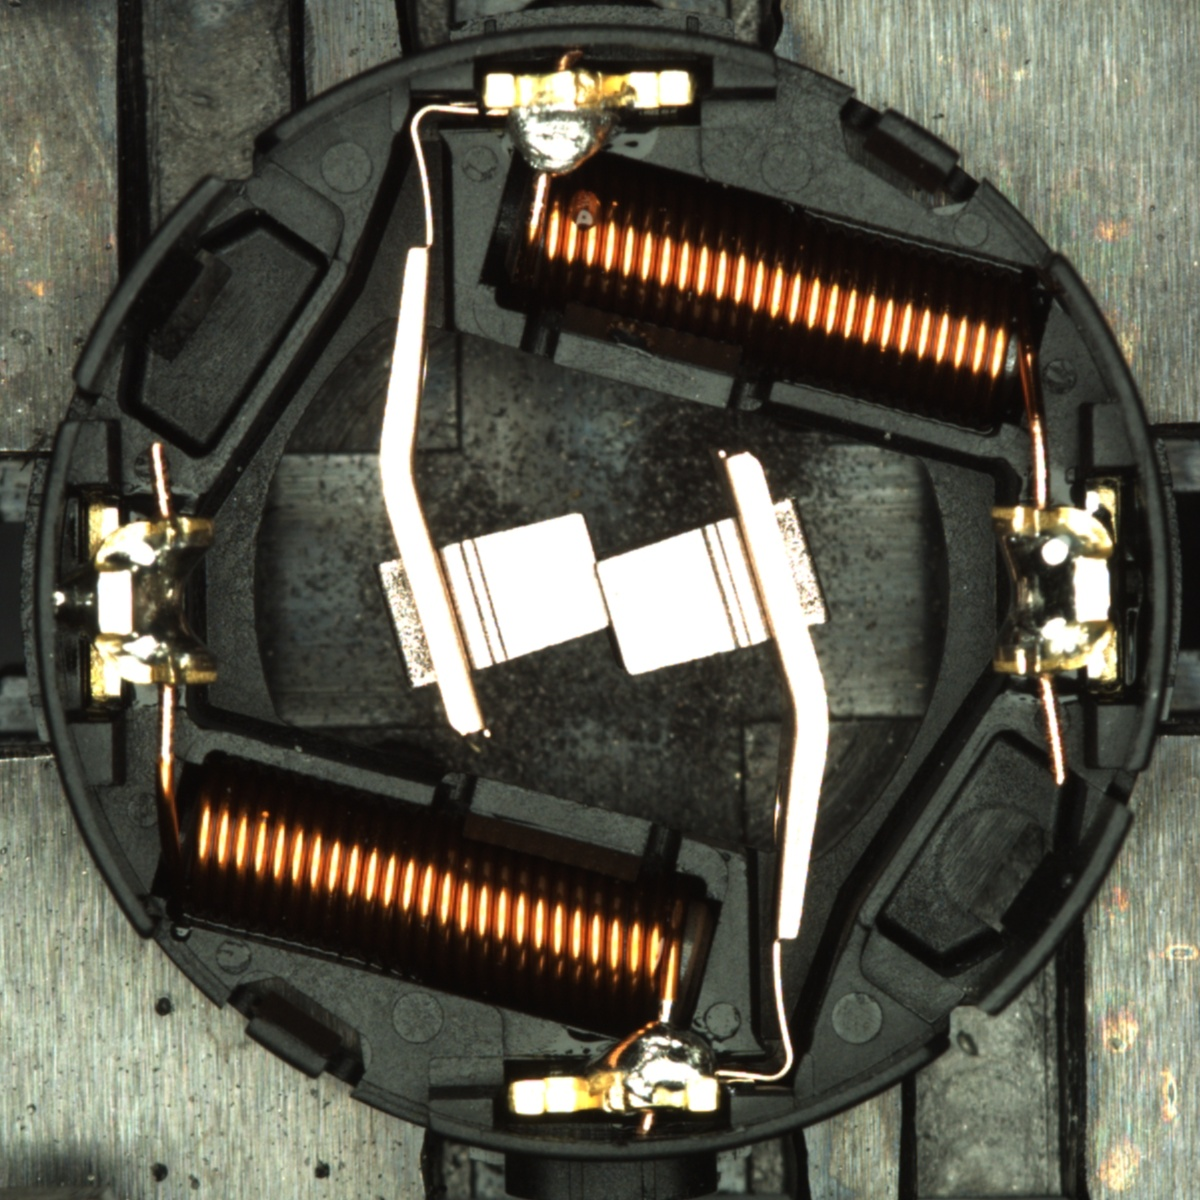1: (256, 32, 485, 256), (714, 930, 943, 1154)
2: (714, 32, 943, 256), (256, 930, 485, 1154)
3: (26, 256, 256, 481), (943, 705, 1173, 930)
4: (256, 256, 485, 481), (714, 705, 943, 930)
5: (485, 144, 714, 368), (485, 818, 714, 1042)
6: (714, 256, 943, 481), (256, 705, 485, 930)
7: (943, 256, 1173, 481), (26, 705, 256, 930)
cacbon: (400, 500, 799, 686)
chau_dien: (81, 500, 220, 701), (984, 488, 1124, 686)
chi_dinh_thanh_de: (47, 581, 84, 624)
tay_choi: (507, 1019, 721, 1119)
thanh_de: (954, 785, 1143, 1032), (60, 163, 245, 407)
